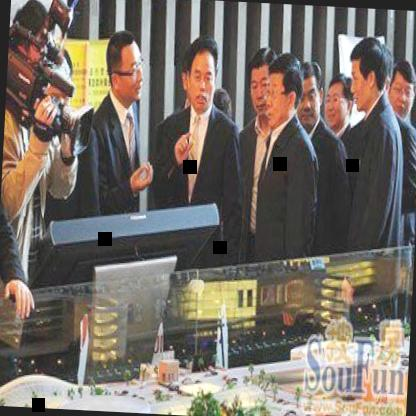head: (100, 27, 144, 110), (346, 34, 390, 115), (181, 32, 219, 116), (14, 4, 52, 83), (265, 51, 301, 126), (243, 47, 271, 120), (386, 57, 416, 117), (322, 72, 352, 130), (298, 70, 324, 129)
